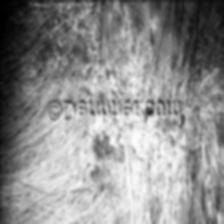Non-Cancerous Skin Condition: (82, 76, 206, 189)
